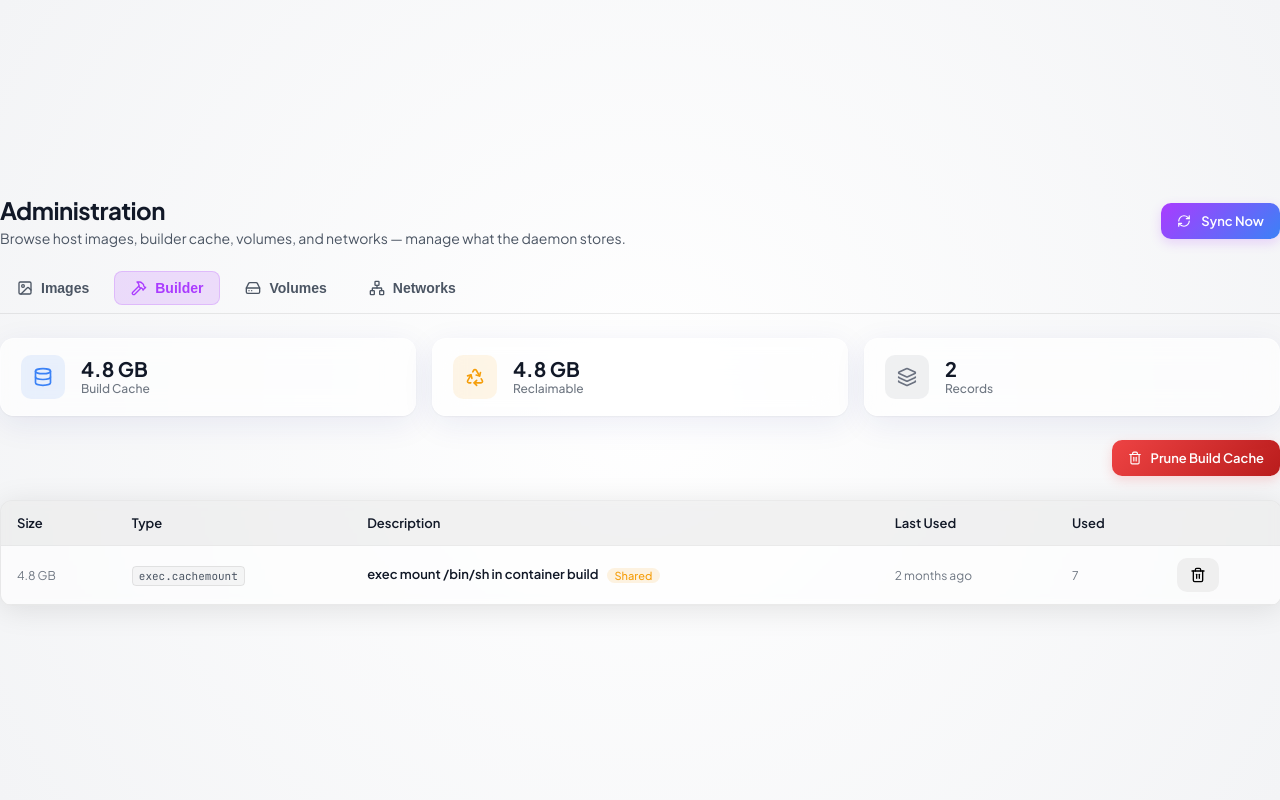
Test case: Administration Component › confirms per-record deletion, reports daemon truth, and refreshes
The width and height of the screenshot is (1280, 800).
Expected: the text "exec.cachemount" is shown, [132, 566, 245, 586]
What coordinates should you click on to do the following:
click the button named "Delete cache record"
I would click on:
 (1198, 574)
Its box is [1177, 558, 1219, 592].
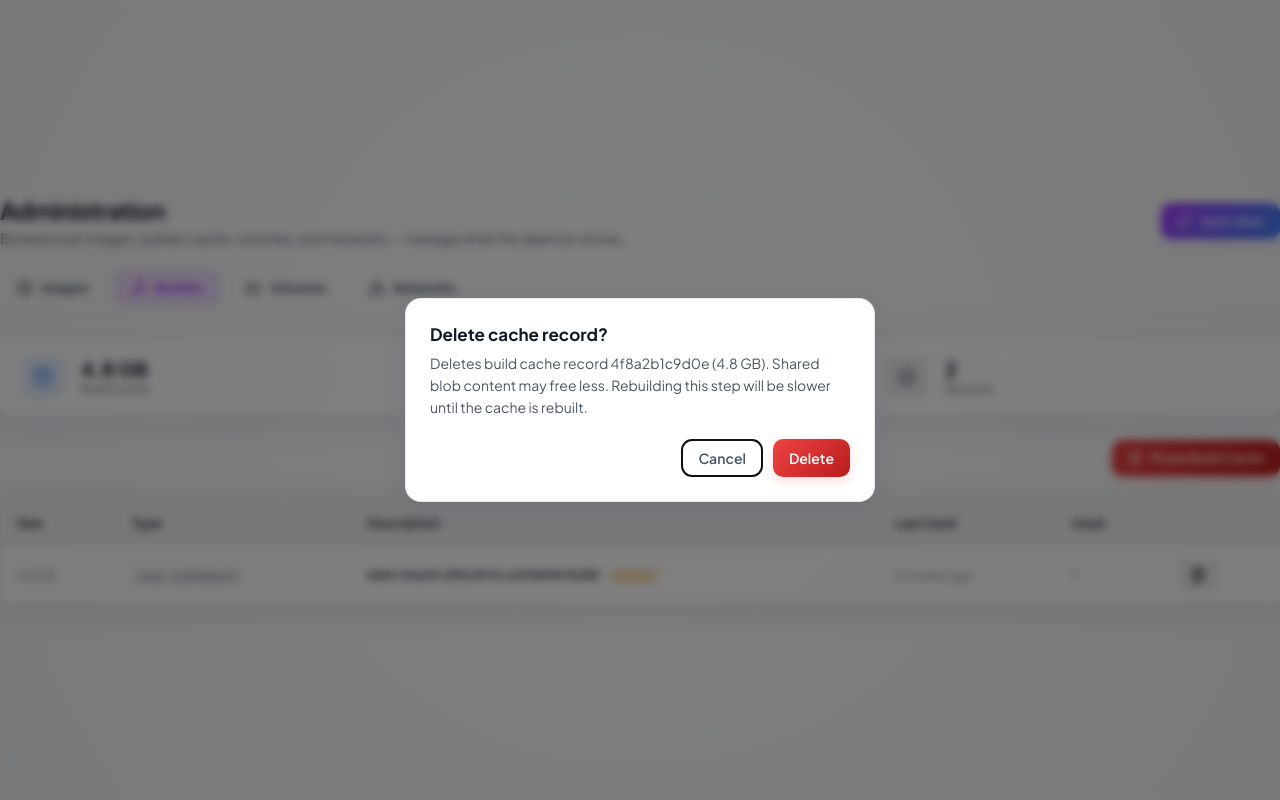
What coordinates should you click on to do the following:
click the button "Delete"
I would click on:
 (811, 458)
Its box is [773, 438, 850, 476].
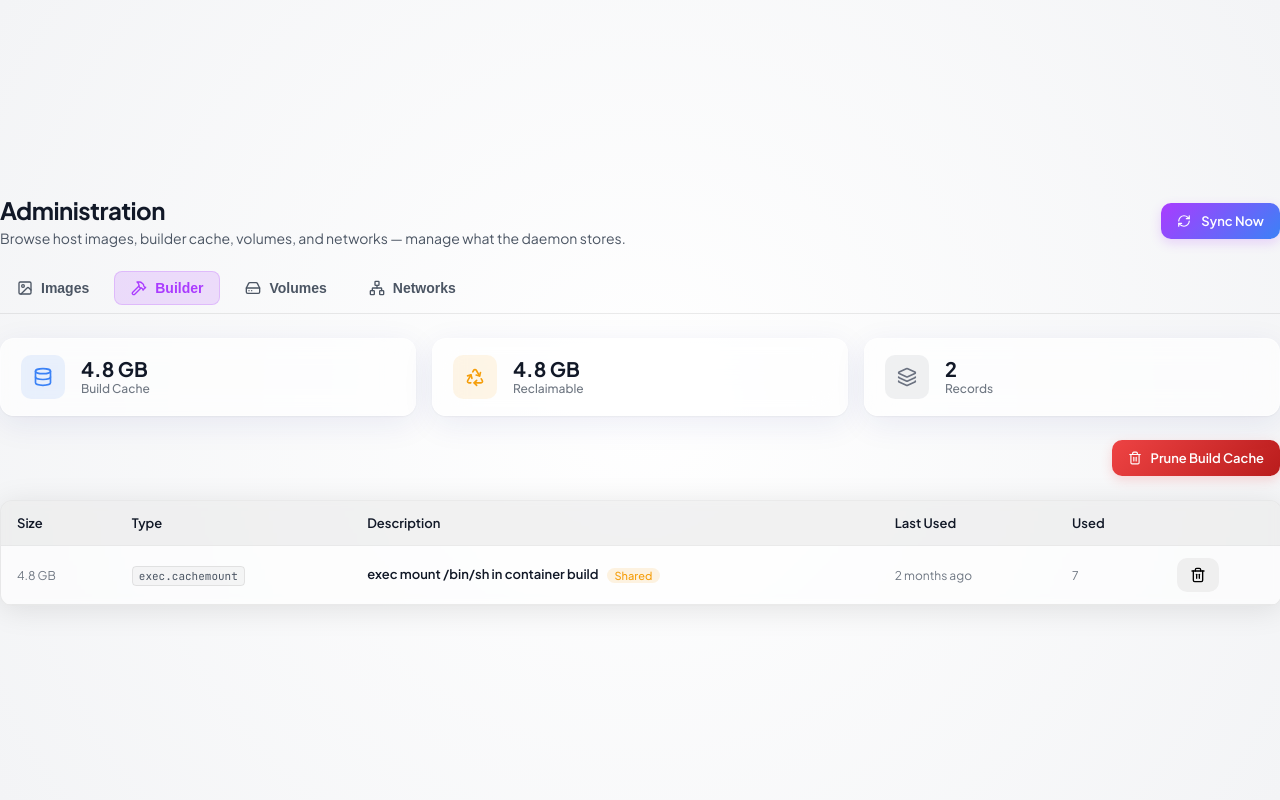
Now the dialog is gone
